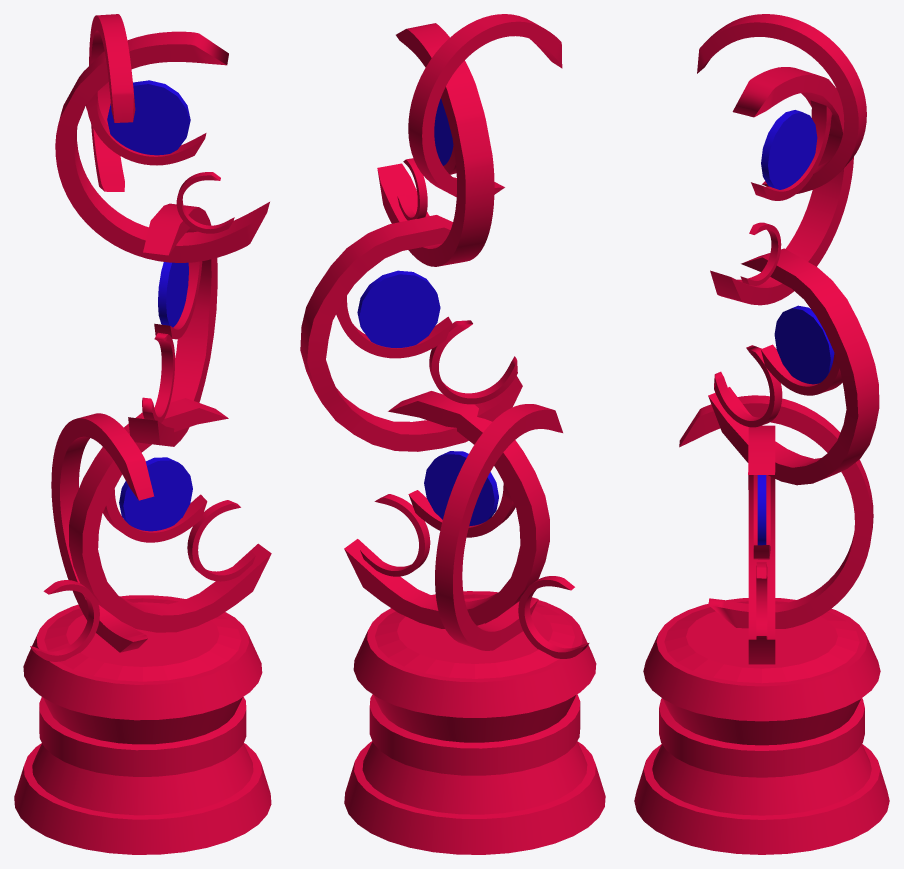
File: ArmeniansDecorLP.fbx
The picture shows the model from 3 angles, left to right: view 1: azimuth 30°, elevation 25°; view 2: azimuth 150°, elevation 25°; view 3: azimuth 270°, elevation 25°; orthographic projection. The views are drawn at different scales.
Visible parts, largest first — view 1: Tumba_HP.002, Skrep_lp.003, Verxuschka_HP.002, Steklo_LP.002, Cylinder, Bot_HP.002, Malischki_HP.002, Topchik_HP.002; view 2: Tumba_HP.002, Skrep_lp.003, Verxuschka_HP.002, Bot_HP.002, Steklo_LP.002, Cylinder, Topchik_HP.002, Malischki_HP.002; view 3: Tumba_HP.002, Skrep_lp.003, Verxuschka_HP.002, Cylinder, Bot_HP.002, Steklo_LP.002, Topchik_HP.002, Malischki_HP.002.
Boxes of the visible parts, box(x1,y1,x2,y2) form: Tumba_HP.002: box(14, 595, 271, 854); Skrep_lp.003: box(69, 203, 271, 632); Verxuschka_HP.002: box(55, 31, 269, 262); Steklo_LP.002: box(107, 80, 192, 531); Cylinder: box(44, 598, 241, 681); Bot_HP.002: box(51, 413, 154, 652); Malischki_HP.002: box(30, 172, 255, 661); Topchik_HP.002: box(89, 14, 135, 191); Tumba_HP.002: box(344, 591, 605, 854); Skrep_lp.003: box(300, 215, 549, 628); Verxuschka_HP.002: box(377, 23, 494, 266); Bot_HP.002: box(435, 404, 562, 650); Steklo_LP.002: box(357, 98, 498, 526); Cylinder: box(375, 594, 574, 678); Topchik_HP.002: box(408, 14, 562, 196); Malischki_HP.002: box(360, 158, 589, 658); Tumba_HP.002: box(634, 598, 889, 854); Skrep_lp.003: box(708, 248, 879, 664); Verxuschka_HP.002: box(710, 67, 853, 305); Cylinder: box(664, 601, 859, 683); Bot_HP.002: box(679, 395, 873, 628); Steklo_LP.002: box(757, 110, 834, 545); Topchik_HP.002: box(697, 14, 866, 193); Malischki_HP.002: box(714, 222, 782, 639).
Bounding box in the file's own units: 81.37 × 257 × 77.33.
